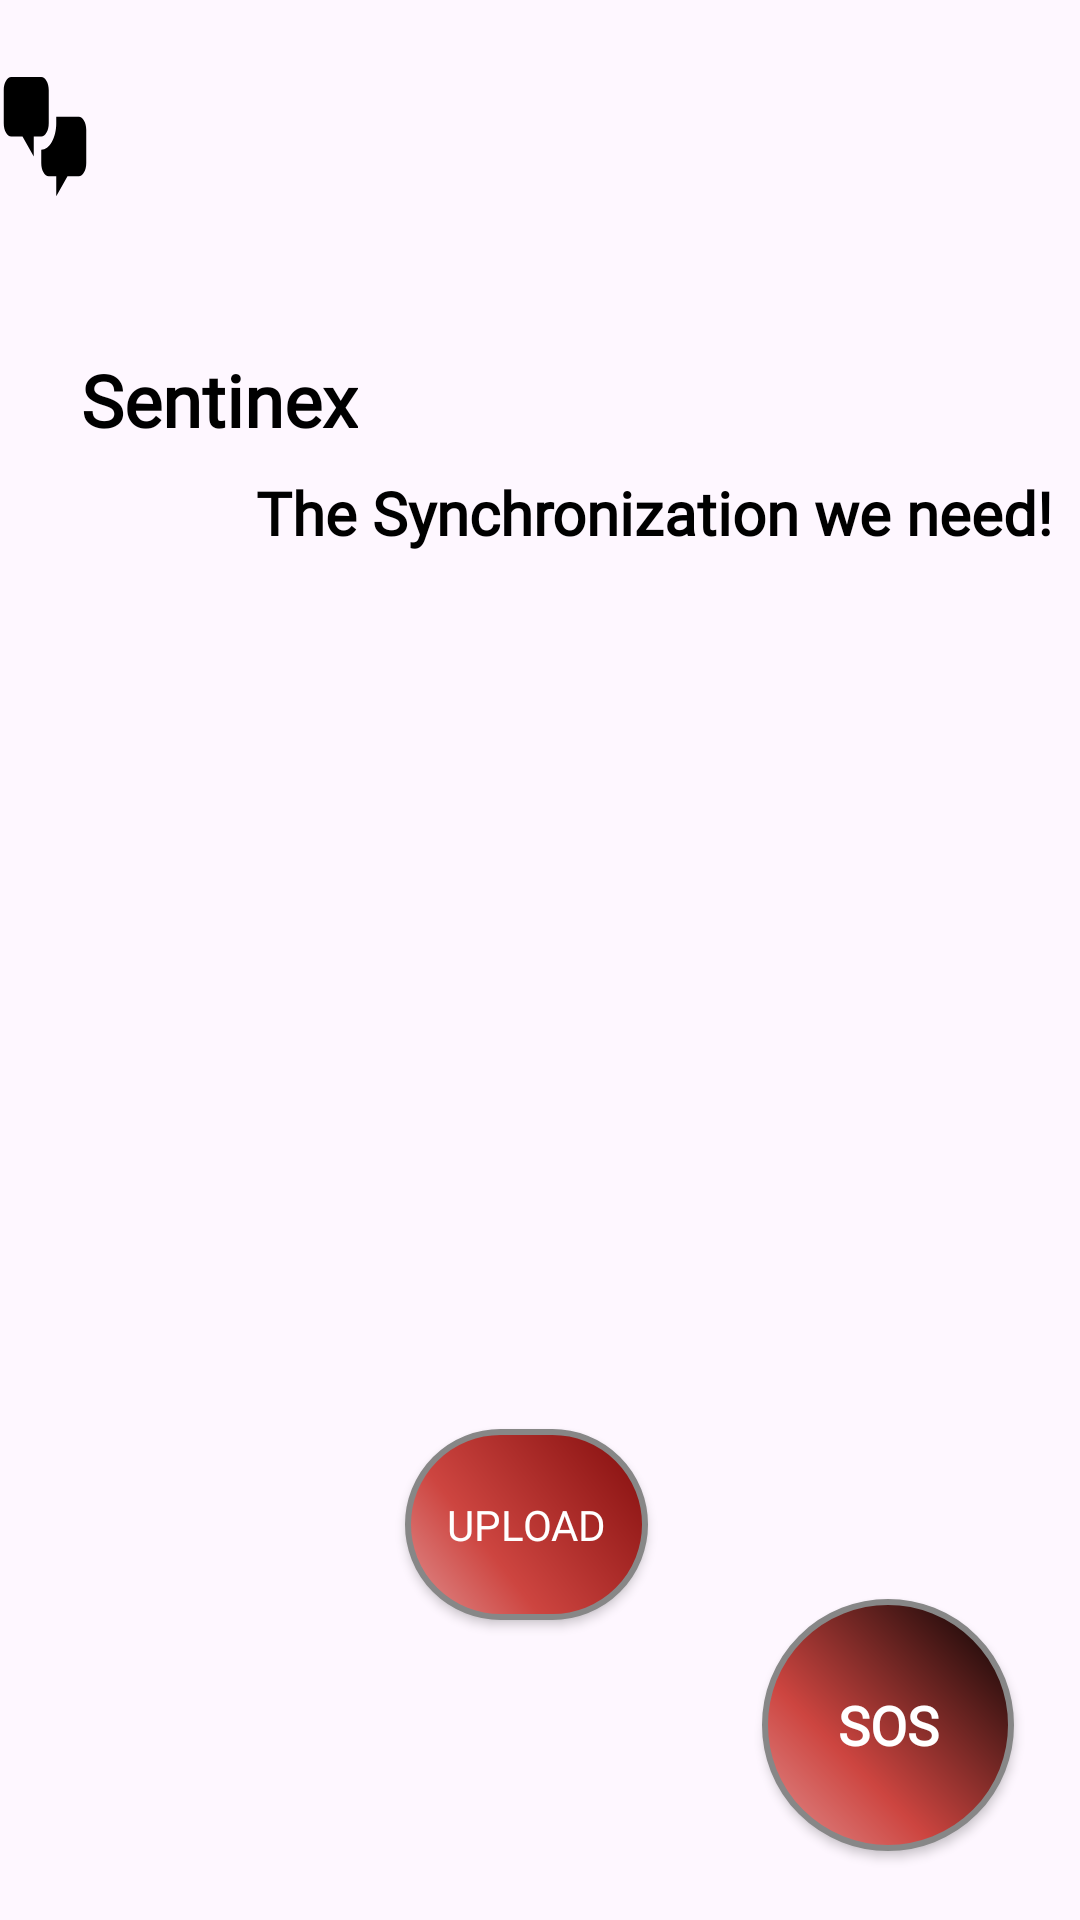

Where icons sit on this 1080x1920 app screen, as (x1, y1, x2, y2):
chat room: (3, 77, 87, 196)
